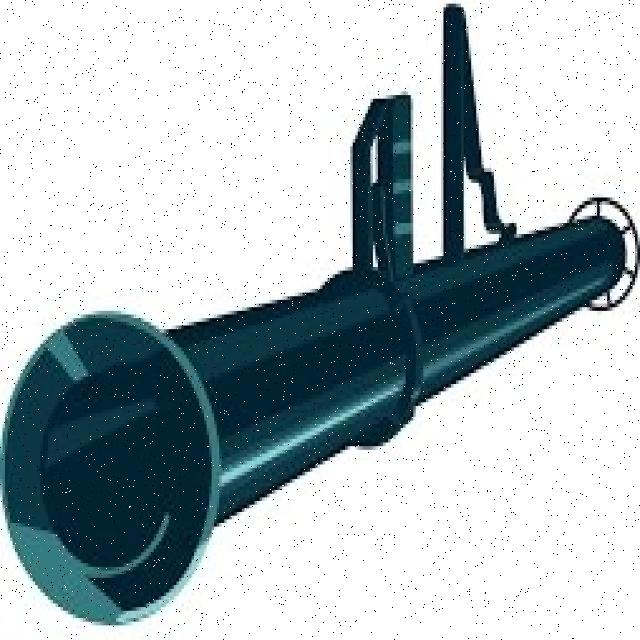bazooka: (1, 1, 640, 640)
